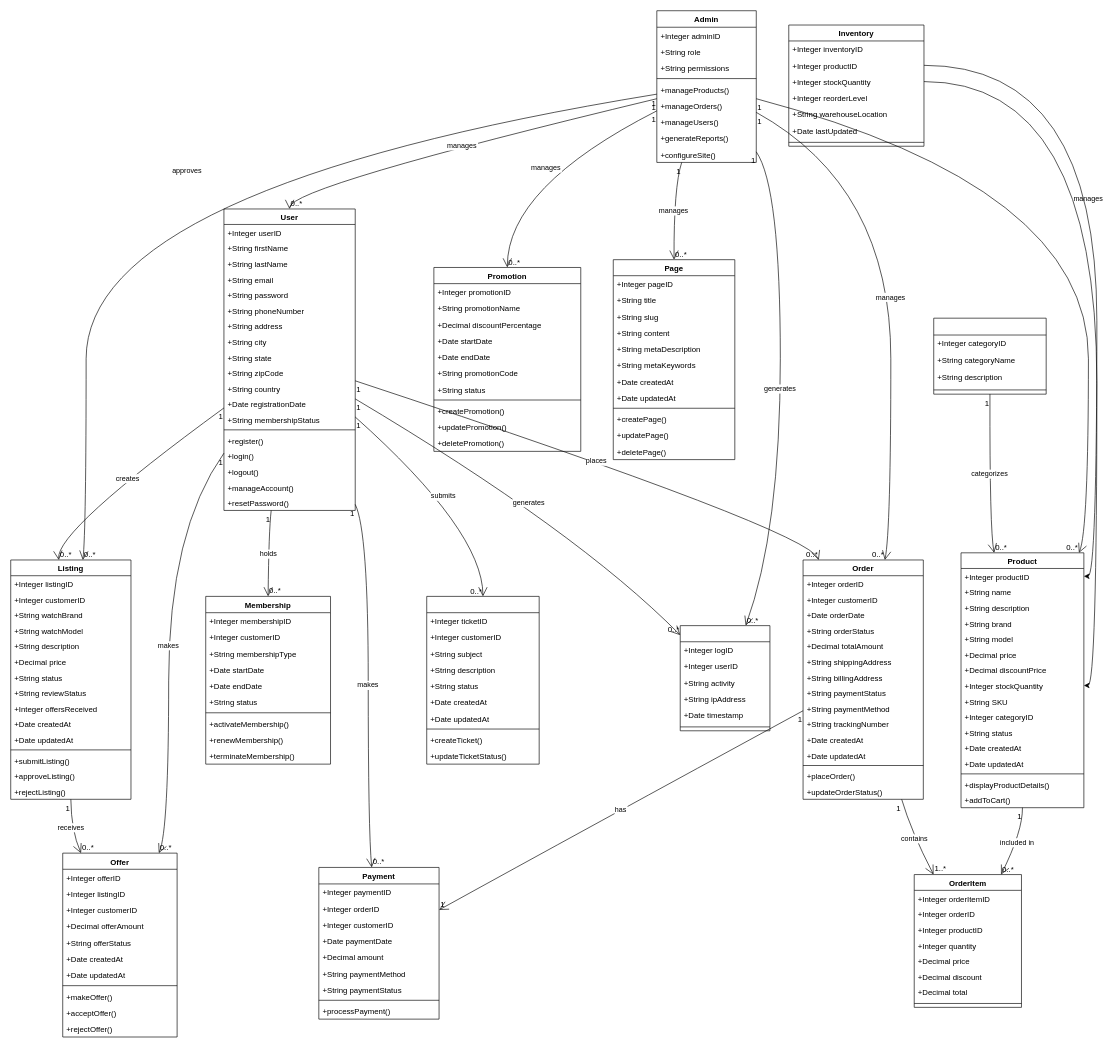
Image size: 1115x1048. Some labels were removed from this diagram. The box of each missing label's shape, as (x1, y1, x2, y2) in pixels:
ActivityLog: (680, 625, 770, 731)
ProductCategory: (933, 318, 1046, 394)
SupportTicket: (426, 596, 539, 764)
